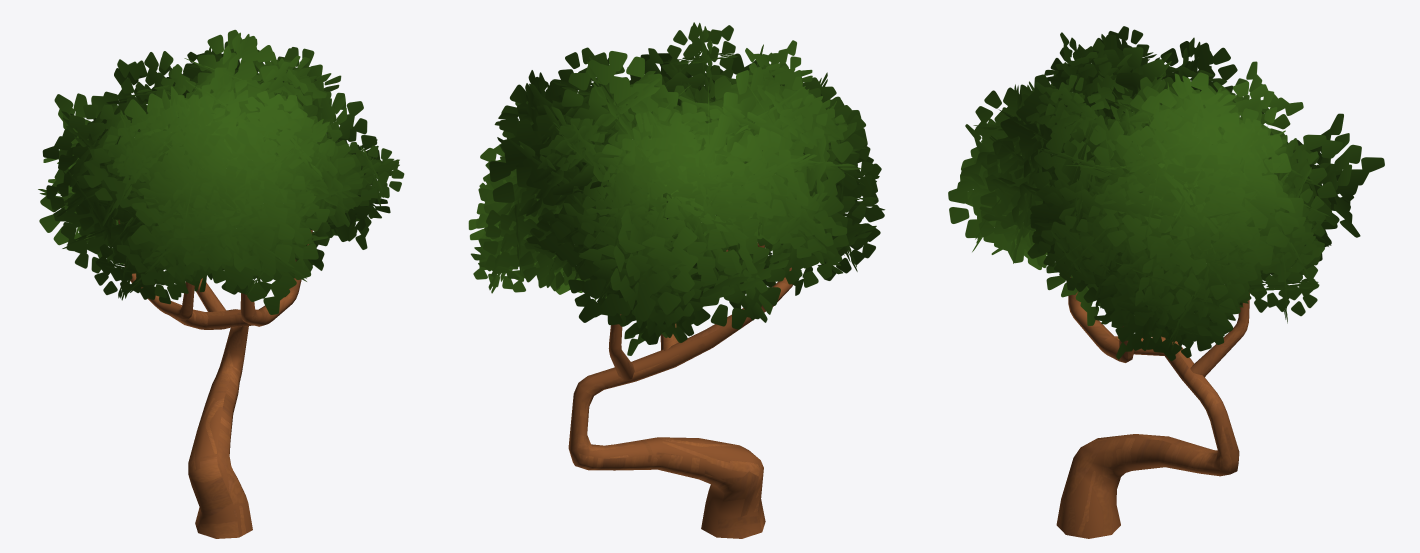
The model's file is tree_bent_2.glb.
3 renders of one model, left to right at view 1: azimuth 30°, elevation 25°; view 2: azimuth 150°, elevation 25°; view 3: azimuth 270°, elevation 25°, orthographic. The views are drawn at different scales.
Parts seen in each view (by area): view 1: Leaf.004, Leaf.078; view 2: Leaf.004, Leaf.078; view 3: Leaf.004, Leaf.078.
Part boxes in pixels (x1,y1,x2,y2): Leaf.004: (38,29,404,314); Leaf.078: (118,220,312,538); Leaf.004: (468,22,884,355); Leaf.078: (568,243,792,538); Leaf.004: (948,26,1384,361); Leaf.078: (1056,277,1249,538).
Size of the model in its own units: 4.67 by 5.96 by 5.2.
2 materials, 2 textured.
